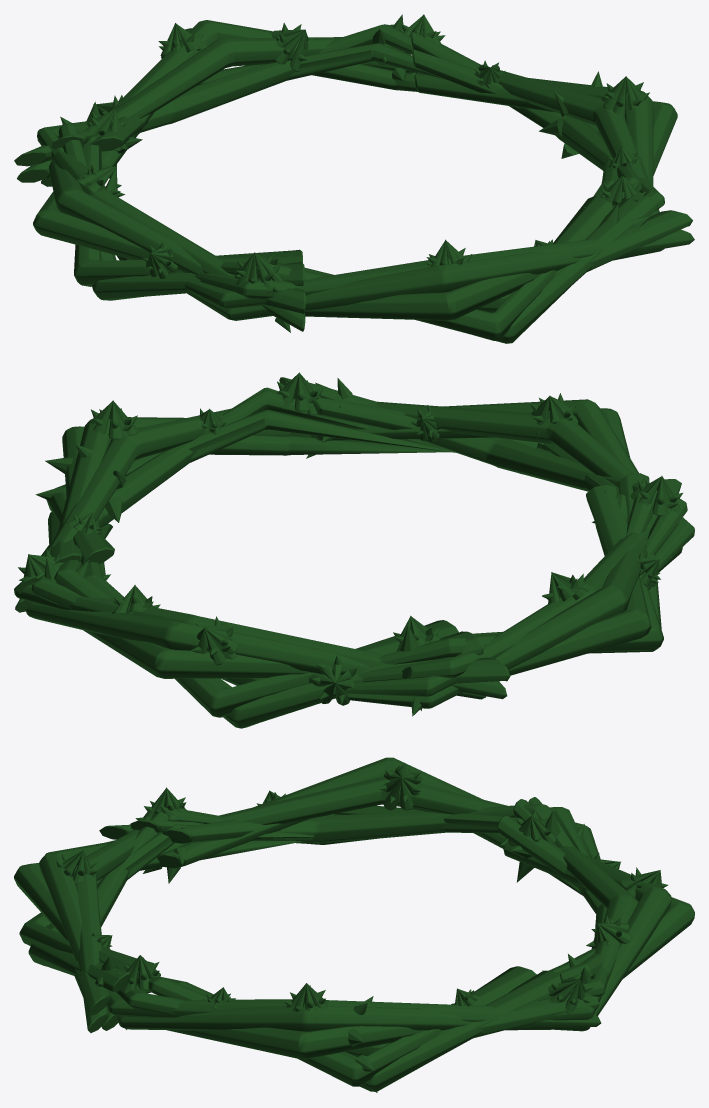
The model's file is ring vine.fbx.
The picture shows the model from 3 angles, top to bottom: view 1: azimuth 30°, elevation 25°; view 2: azimuth 150°, elevation 25°; view 3: azimuth 270°, elevation 25°; orthographic projection. The views are drawn at different scales.
Visible parts, largest first — view 1: polySurface307; view 2: polySurface307; view 3: polySurface307.
Part boxes in pixels (bbox=[...]): polySurface307: bbox=[14, 14, 694, 343]; polySurface307: bbox=[14, 372, 694, 728]; polySurface307: bbox=[14, 757, 694, 1092].
Size of the model in its own units: 639 by 109 by 651.
